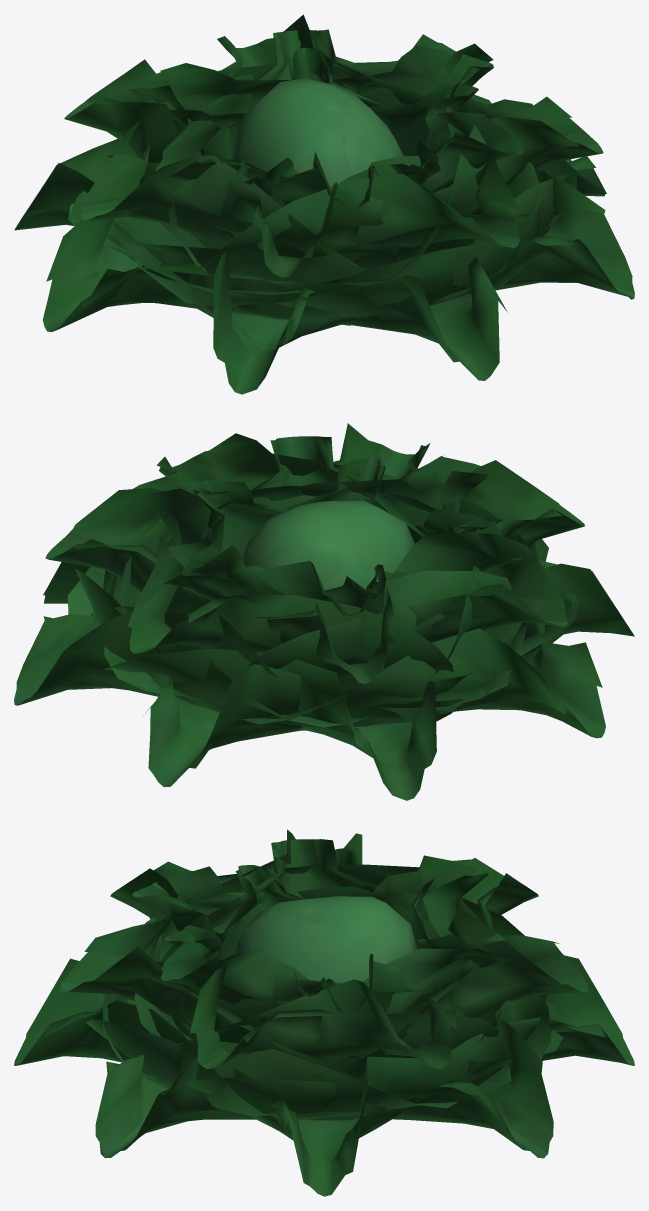
File: crop_kale.glb
3 renders of one model, top to bottom at view 1: azimuth 30°, elevation 25°; view 2: azimuth 150°, elevation 25°; view 3: azimuth 270°, elevation 25°, orthographic. The views are drawn at different scales.
Parts seen in each view (by area): view 1: crop_kale, fruit; view 2: crop_kale, fruit; view 3: crop_kale, fruit.
Boxes of the visible parts, x1,y1,x2,y2 form: crop_kale: (14, 14, 634, 394); fruit: (231, 78, 403, 187); crop_kale: (14, 423, 634, 800); fruit: (242, 500, 414, 590); crop_kale: (14, 829, 634, 1196); fruit: (232, 896, 417, 982).
Size of the model in its own units: 0.2435 by 0.0936 by 0.2435.
1 material, 1 textured.
